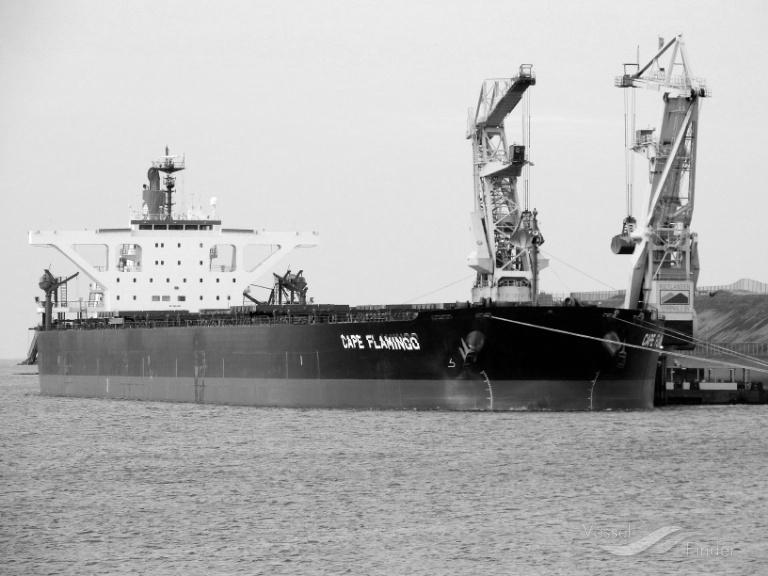OCR: (336, 329, 424, 354)
